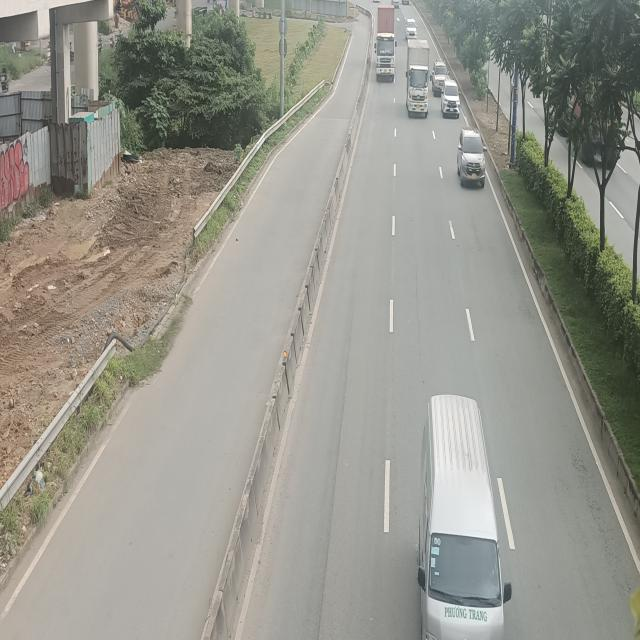car: (457, 130, 487, 188), (442, 80, 461, 118), (431, 60, 450, 96), (406, 18, 418, 40)
container: (374, 6, 396, 80)
truck: (406, 41, 432, 115)
van: (415, 394, 513, 640)
